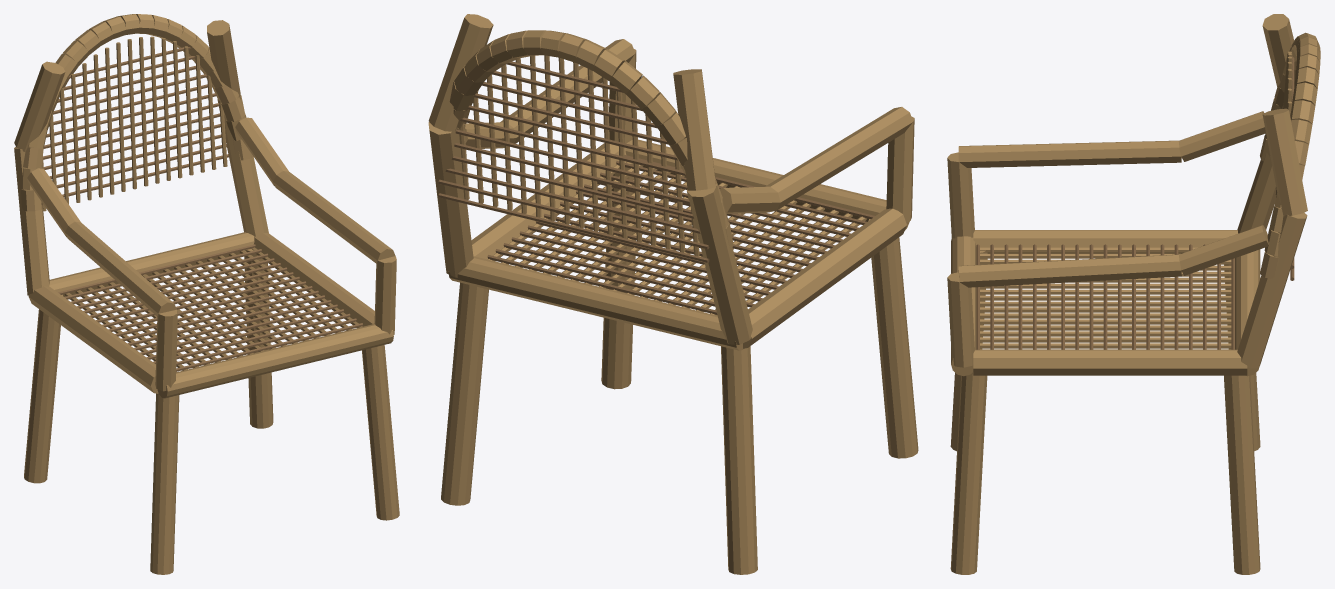
The model's file is rattan_chair.glb.
The picture shows the model from 3 angles, left to right: view 1: azimuth 30°, elevation 25°; view 2: azimuth 150°, elevation 25°; view 3: azimuth 270°, elevation 25°; orthographic projection. The views are drawn at different scales.
Visible parts, largest first — view 1: rattan_chair; view 2: rattan_chair; view 3: rattan_chair.
Part boxes in pixels (x1,y1,x2,y2): rattan_chair: [14, 14, 399, 574]; rattan_chair: [428, 14, 918, 574]; rattan_chair: [947, 14, 1320, 574].
Bounding box in the file's own units: 0.6754 × 1.09 × 0.79.
